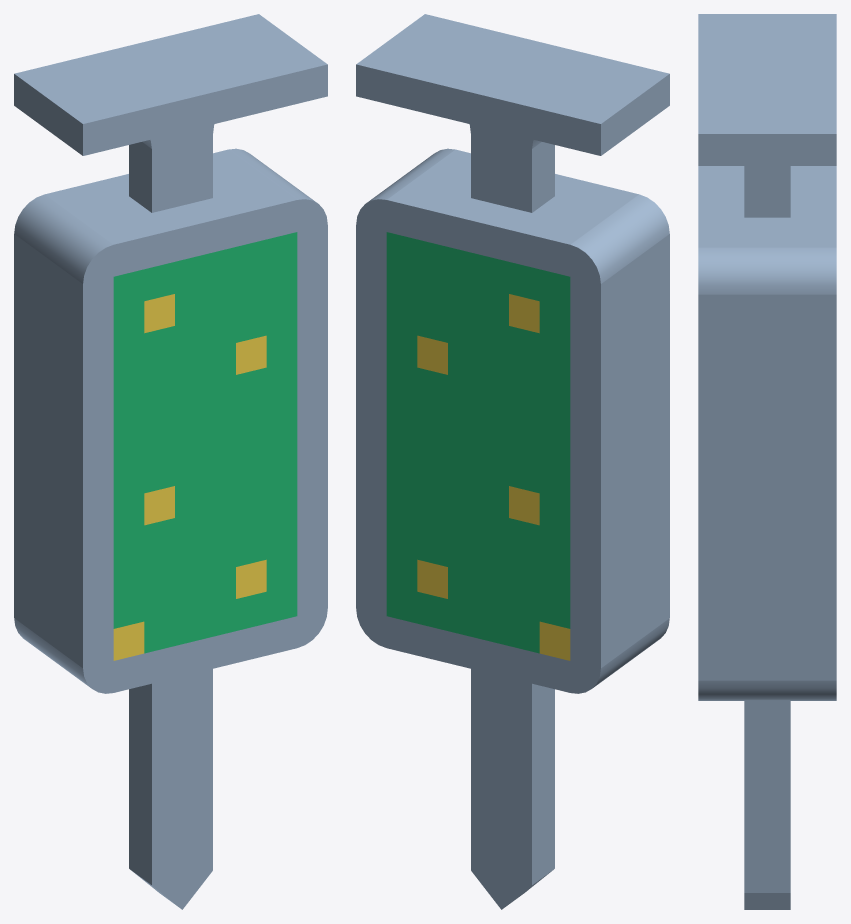
Rendered from Antidote.glb.
3 views of the same model, side by side, from view 1: azimuth 30°, elevation 25°; view 2: azimuth 150°, elevation 25°; view 3: azimuth 270°, elevation 25° (orthographic).
Visible parts, largest first — view 1: generated(Clone); view 2: generated(Clone); view 3: generated(Clone).
Boxes of the visible parts, x1,y1,x2,y2 form: generated(Clone): (14,14,327,909); generated(Clone): (356,14,669,909); generated(Clone): (698,14,836,909).
Size of the model in its own units: 8 by 26 by 3.9.
